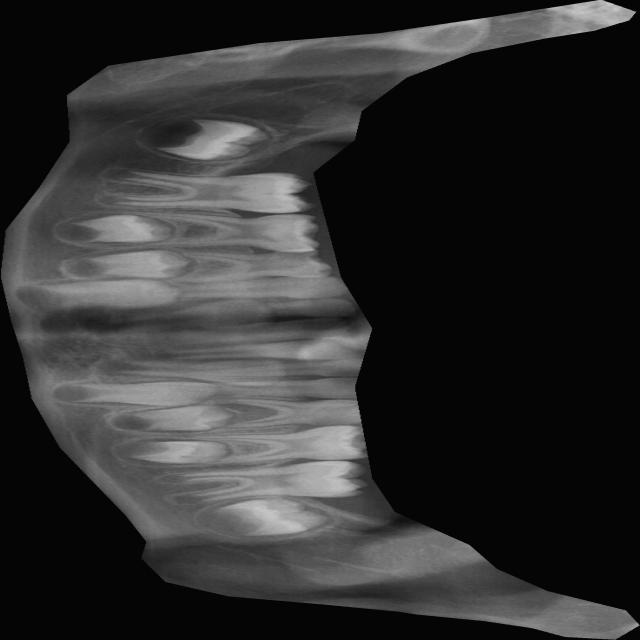mandibula: (0, 0, 639, 640)
